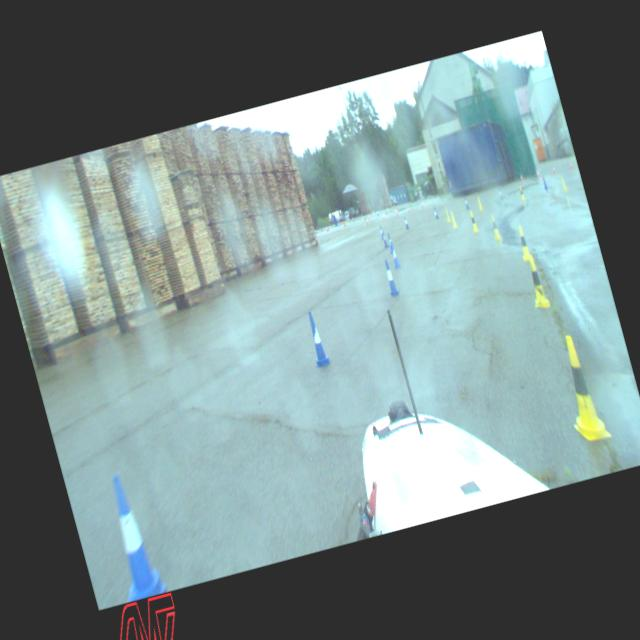blue_cone: (96, 470, 167, 601), (301, 308, 332, 368), (381, 259, 399, 296), (388, 242, 401, 268), (386, 232, 395, 252), (540, 174, 548, 190), (402, 215, 410, 229), (381, 231, 388, 247), (462, 196, 470, 209), (378, 224, 384, 238), (432, 206, 438, 218)
orange_cone: (534, 168, 540, 178), (520, 172, 524, 182), (365, 216, 369, 225), (381, 211, 385, 220), (394, 208, 398, 216)
yellow_cone: (550, 329, 612, 447), (522, 254, 550, 312), (515, 224, 532, 260), (488, 213, 502, 240), (468, 210, 478, 232), (449, 211, 457, 228), (443, 207, 451, 222), (475, 196, 483, 210), (518, 186, 525, 200), (560, 176, 566, 192)
